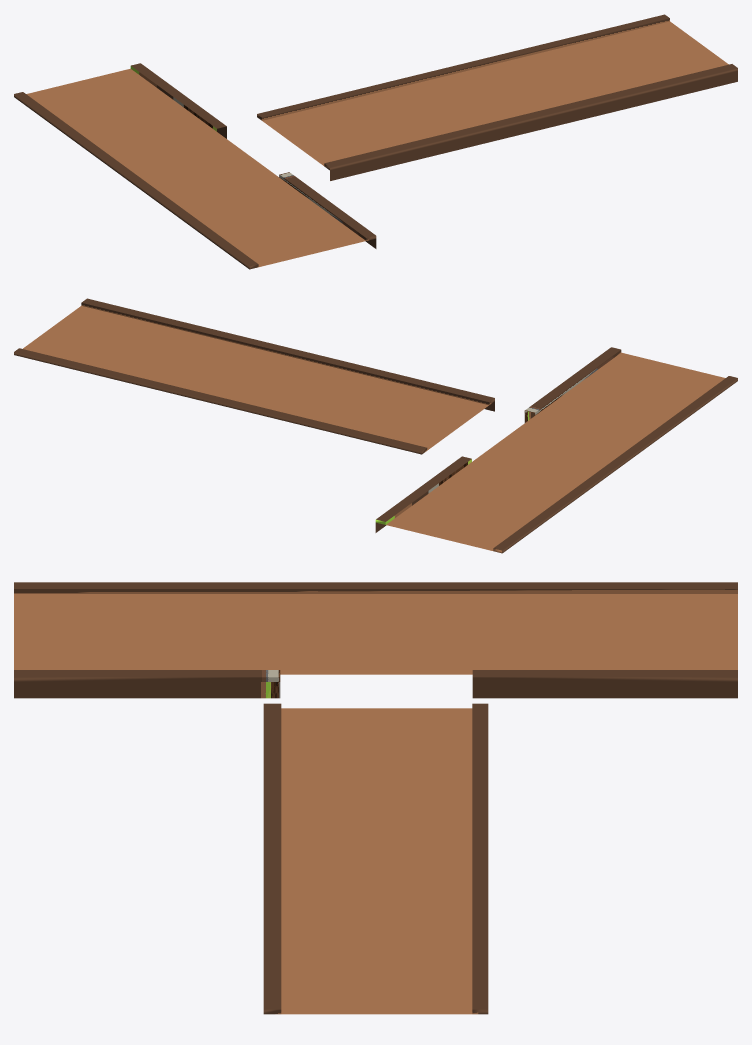
File: Footpath.fbx
3 views of the same model, one above another, from view 1: azimuth 30°, elevation 25°; view 2: azimuth 150°, elevation 25°; view 3: azimuth 270°, elevation 25° (orthographic). The views are drawn at different scales.
Visible parts, largest first — view 1: pPlane1, pPlane2; view 2: pPlane1, pPlane2; view 3: pPlane2, pPlane1.
Boxes of the visible parts, <box> form: pPlane1: <box>257,14,737,180</box>; pPlane2: <box>14,63,376,269</box>; pPlane1: <box>14,298,494,454</box>; pPlane2: <box>375,347,737,553</box>; pPlane2: <box>14,582,737,698</box>; pPlane1: <box>263,703,488,1014</box>.
Size of the model in its own units: 29.59 by 0.6817 by 21.19.
